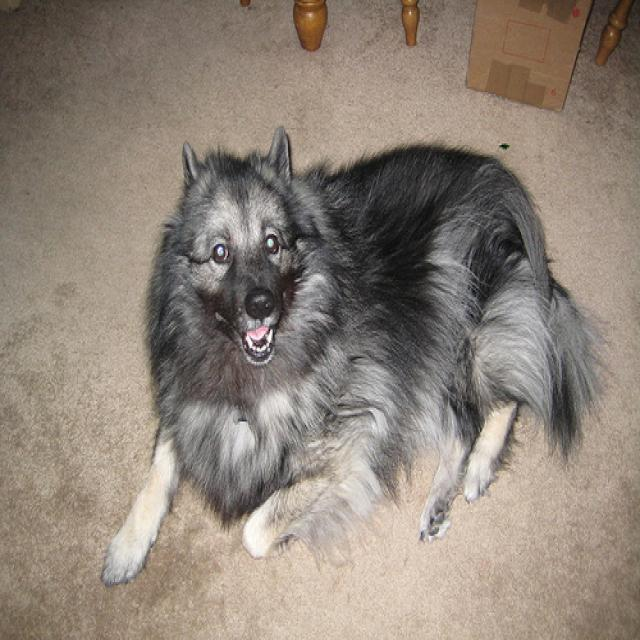dog-keeshond: (91, 121, 622, 591)
